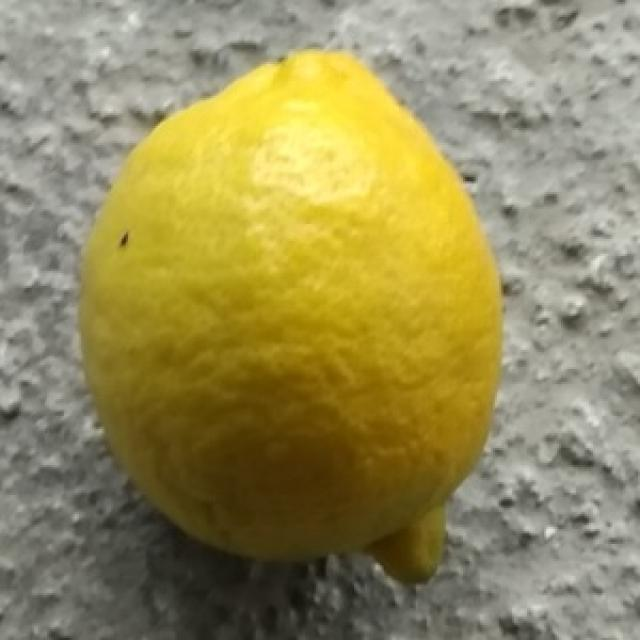Ripe: (71, 46, 507, 587)
